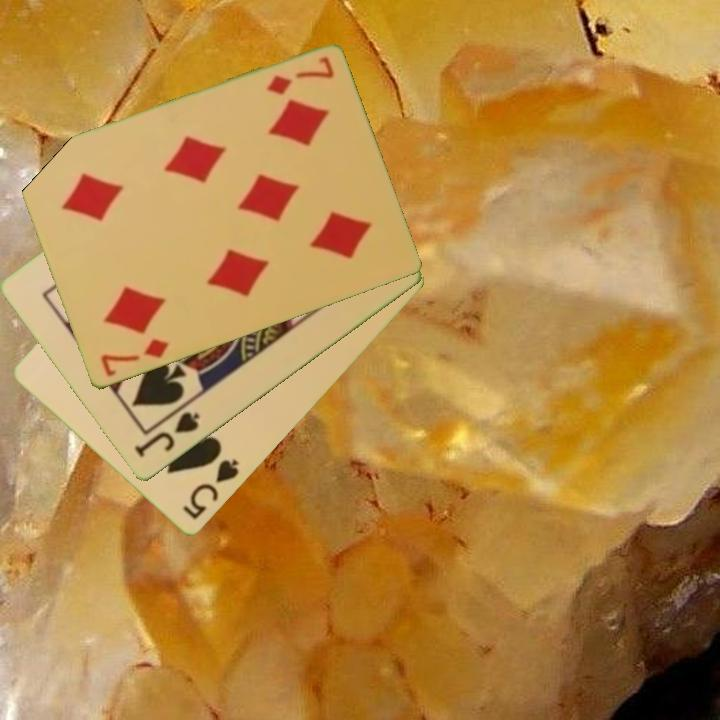5s: (179, 456, 242, 523)
7d: (262, 53, 337, 99), (97, 335, 171, 381)
Js: (130, 408, 203, 461)
